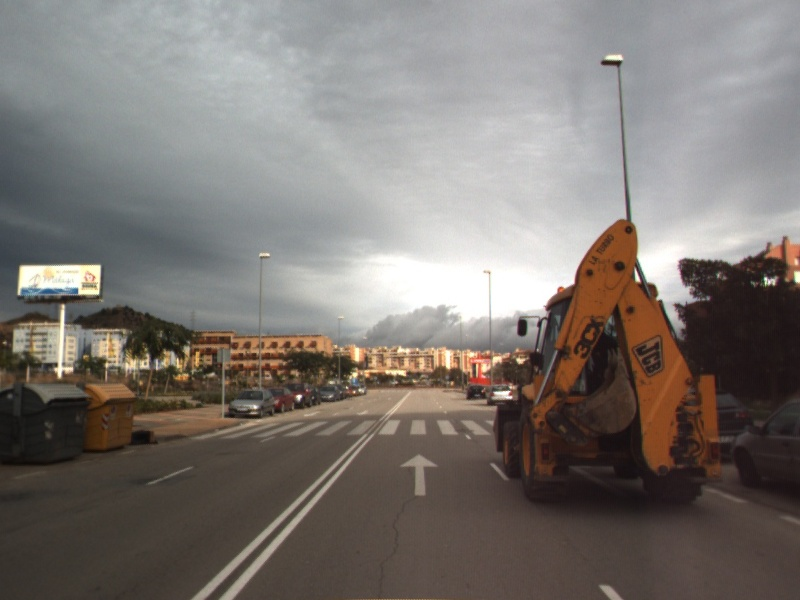STRAIGHT: (398, 451, 441, 498)
